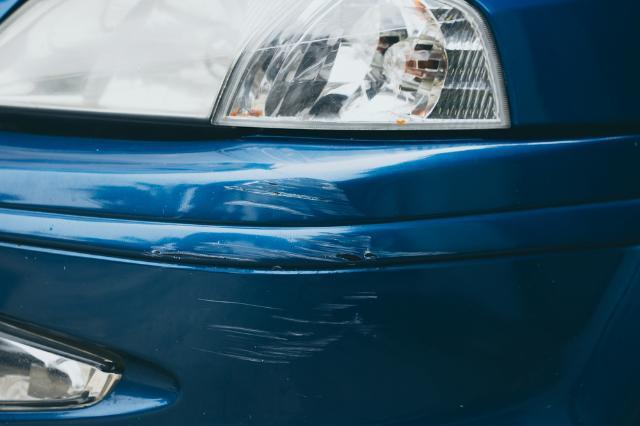scratch: (146, 175, 460, 365)
